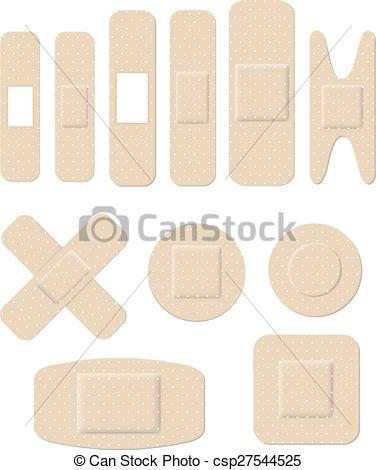bandage: (35, 357, 205, 449), (2, 216, 128, 340), (227, 0, 297, 184), (253, 333, 361, 447), (308, 27, 376, 184), (150, 225, 245, 321), (110, 9, 157, 188), (270, 224, 360, 315), (171, 9, 216, 188), (0, 31, 42, 182), (54, 32, 95, 181)
